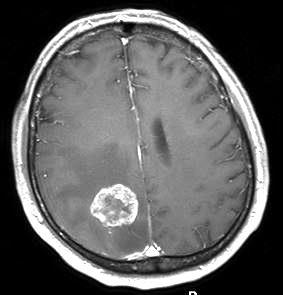Tumor: (90, 183, 142, 232)
